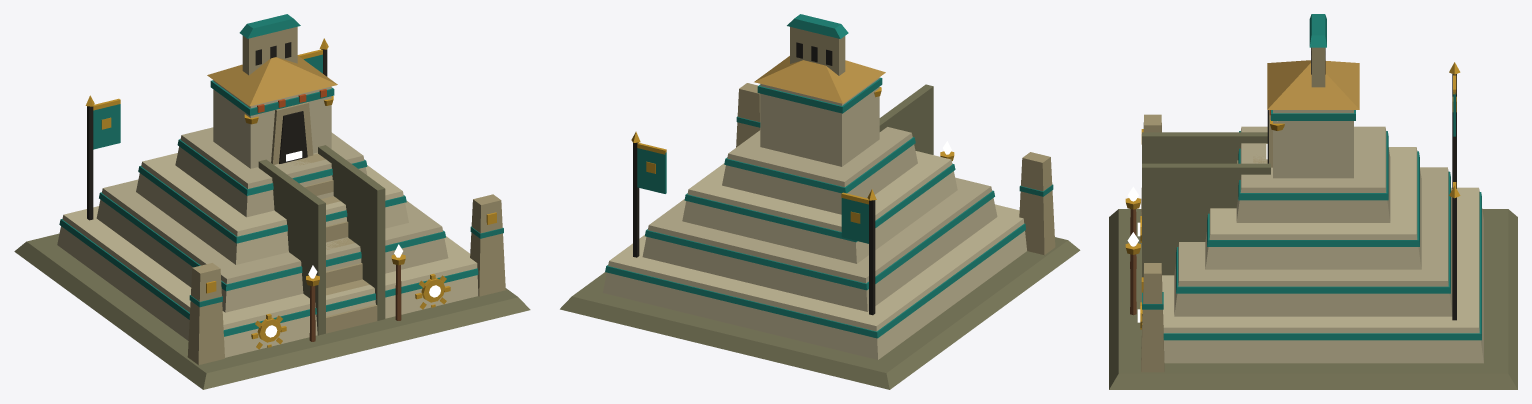
The model's file is castle_t3.glb.
3 views of the same model, side by side, from view 1: azimuth 30°, elevation 25°; view 2: azimuth 150°, elevation 25°; view 3: azimuth 270°, elevation 25° (orthographic). The views are drawn at different scales.
Parts seen in each view (by area): view 1: body, glow; view 2: body; view 3: body, glow.
Part boxes in pixels (box(x1,y1,x2,y2)): body: box(14, 14, 530, 389); glow: box(265, 151, 440, 337); body: box(560, 14, 1080, 389); body: box(1109, 14, 1517, 389); glow: box(1127, 144, 1267, 322).
Bounding box in the file's own units: 4.2 × 3.16 × 4.2.
